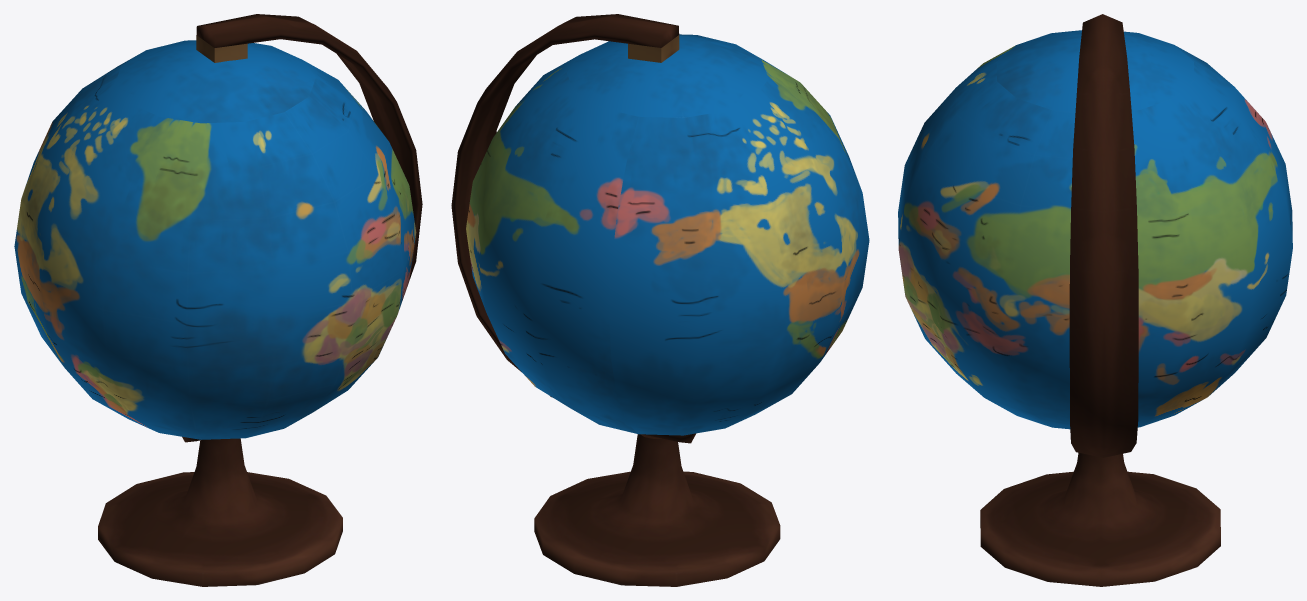
The model's file is Globe_Scaled.fbx.
3 views of the same model, side by side, from view 1: azimuth 30°, elevation 25°; view 2: azimuth 150°, elevation 25°; view 3: azimuth 270°, elevation 25° (orthographic).
Parts seen in each view (by area): view 1: Globe, Globe_Stand2, Globe_Frame2; view 2: Globe, Globe_Stand2, Globe_Frame2; view 3: Globe, Globe_Frame2, Globe_Stand2.
Part boxes in pixels (x1,y1,x2,y2): Globe: [14, 40, 416, 439]; Globe_Stand2: [98, 438, 342, 586]; Globe_Frame2: [182, 14, 422, 442]; Globe: [466, 34, 869, 435]; Globe_Stand2: [534, 434, 780, 586]; Globe_Frame2: [451, 14, 696, 443]; Globe: [898, 30, 1292, 429]; Globe_Frame2: [1069, 14, 1138, 457]; Globe_Stand2: [980, 452, 1220, 586].
Bounding box in the file's own units: 38.45 × 49.86 × 34.7.
